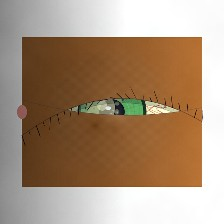corneal_ulcer: (76, 88, 126, 128)
